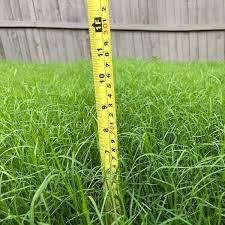grass: (1, 63, 223, 223)
